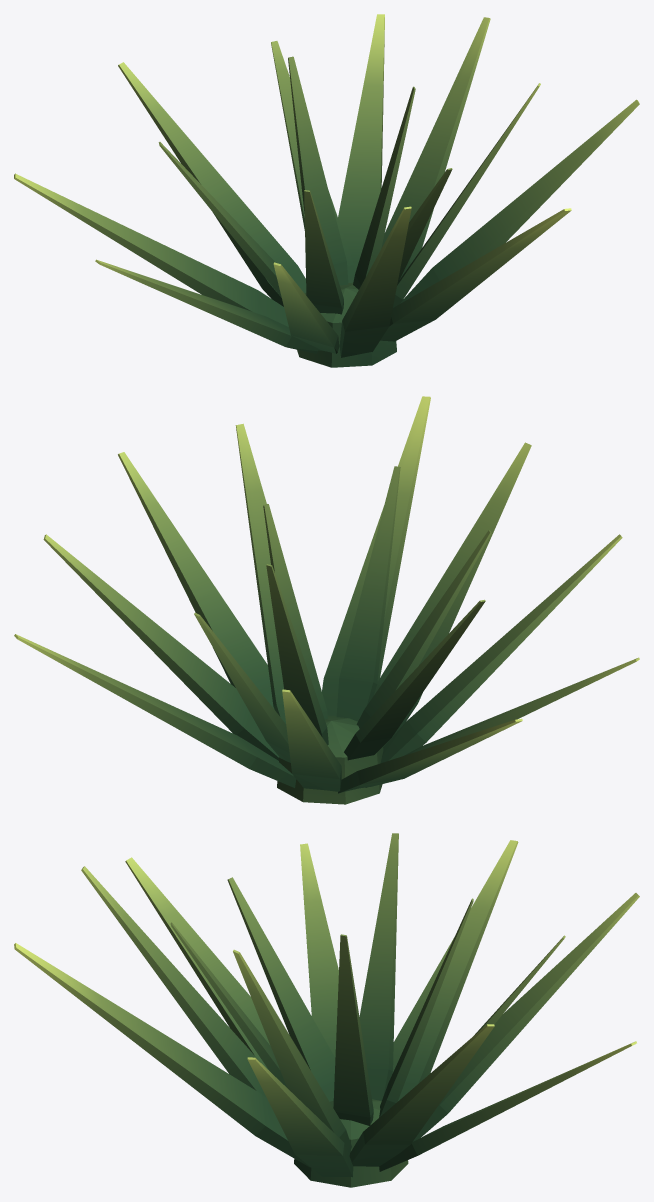
The model's file is DesertGrass_01.fbx.
3 renders of one model, top to bottom at view 1: azimuth 30°, elevation 25°; view 2: azimuth 150°, elevation 25°; view 3: azimuth 270°, elevation 25°, orthographic. The views are drawn at different scales.
Parts seen in each view (by area): view 1: DesertGrass_01; view 2: DesertGrass_01; view 3: DesertGrass_01.
Part boxes in pixels (left/top/right/bottom): DesertGrass_01: left=14, top=14, right=639, bottom=367; DesertGrass_01: left=14, top=396, right=639, bottom=804; DesertGrass_01: left=14, top=833, right=639, bottom=1187.
Size of the model in its own units: 917 by 451 by 894.
